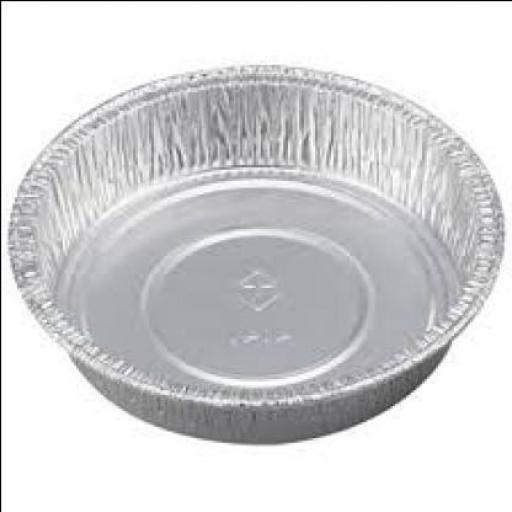metal: (9, 62, 505, 440)
